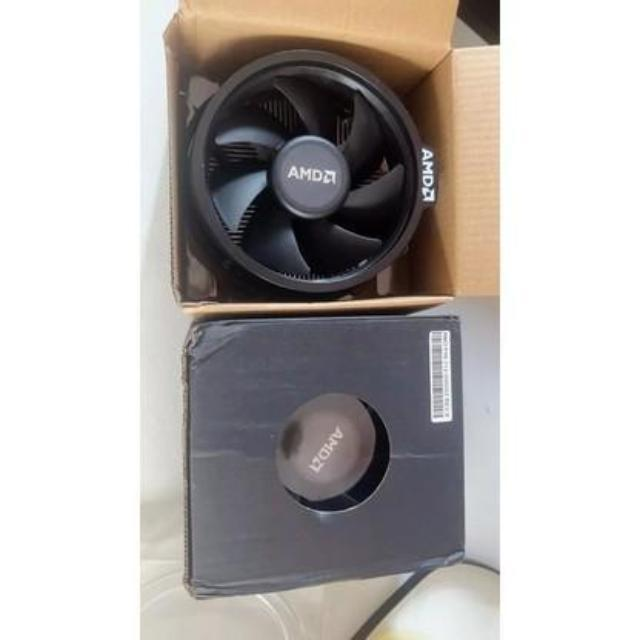CPU_Fan: (186, 36, 437, 293)
